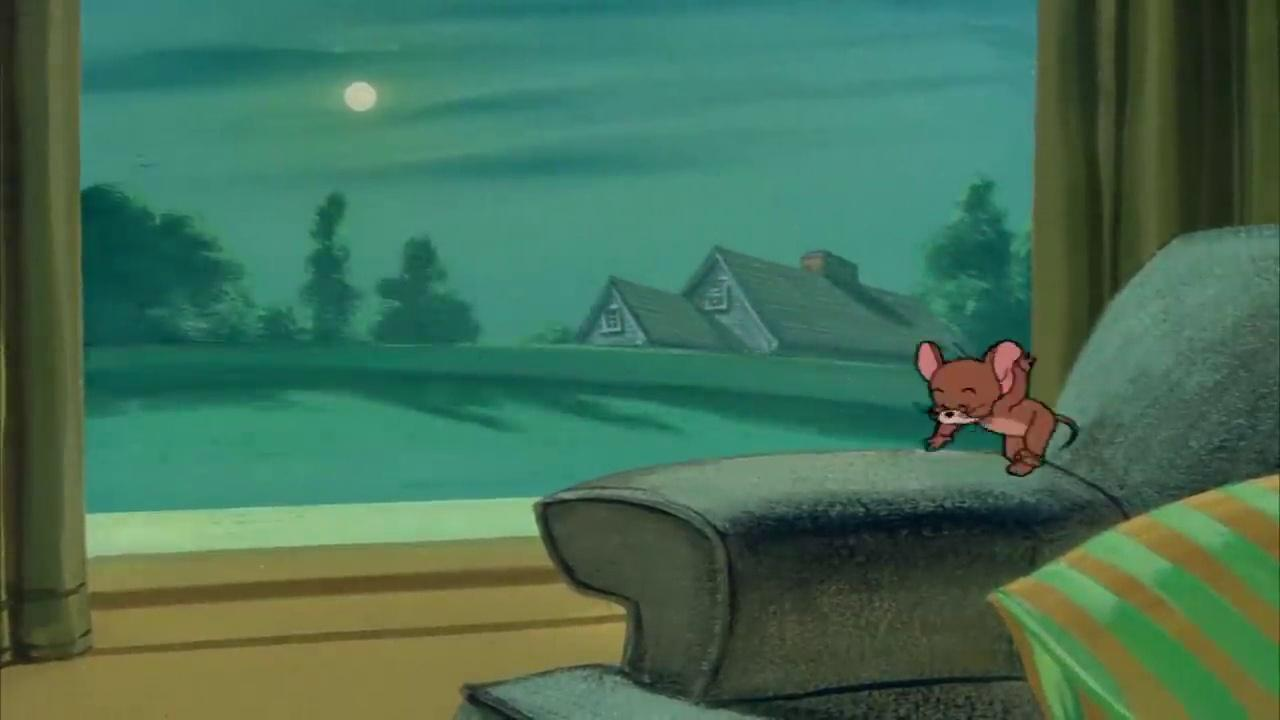Jerry: (914, 338, 1082, 478)
